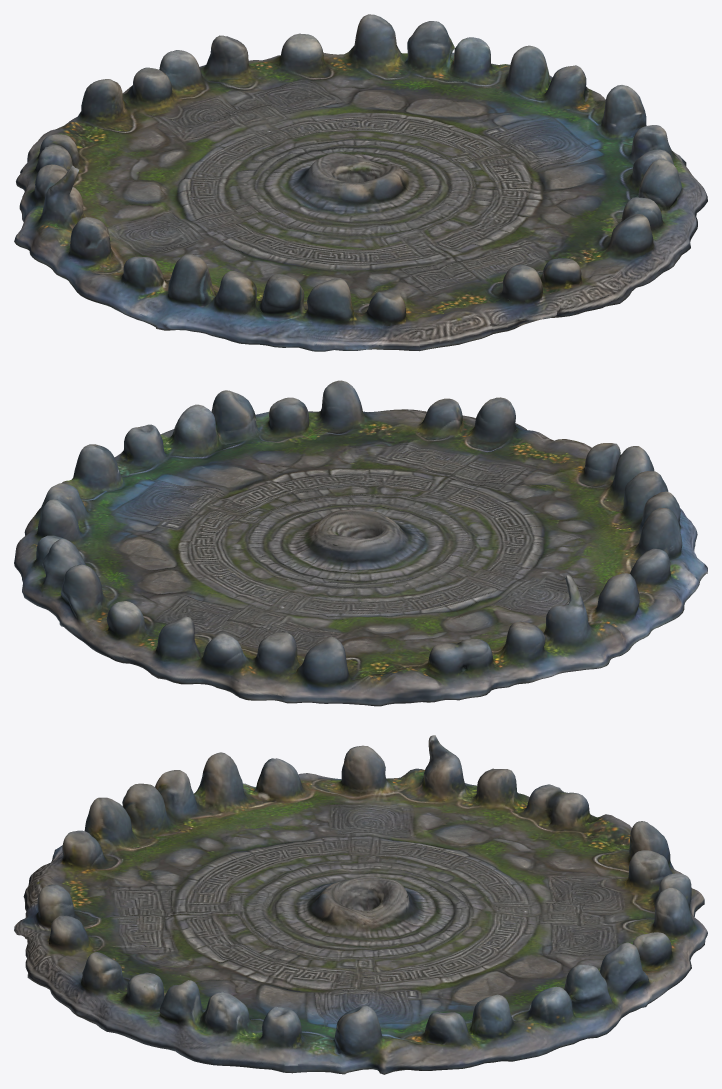
File: ancient_terrain.glb
3 renders of one model, top to bottom at view 1: azimuth 30°, elevation 25°; view 2: azimuth 150°, elevation 25°; view 3: azimuth 270°, elevation 25°, orthographic.
Parts seen in each view (by area): view 1: file1_0; view 2: file1_0; view 3: file1_0.
Boxes of the visible parts, <box> form: file1_0: <box>14,14,707,351</box>; file1_0: <box>14,380,707,706</box>; file1_0: <box>14,735,707,1074</box>.
Size of the model in its own units: 1.98 by 0.2369 by 1.99.
1 material, 1 textured.
